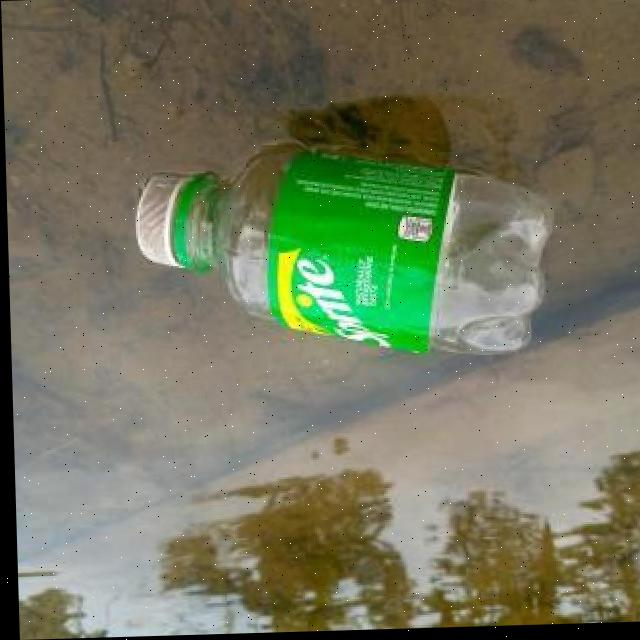bottle: (129, 135, 561, 373)
